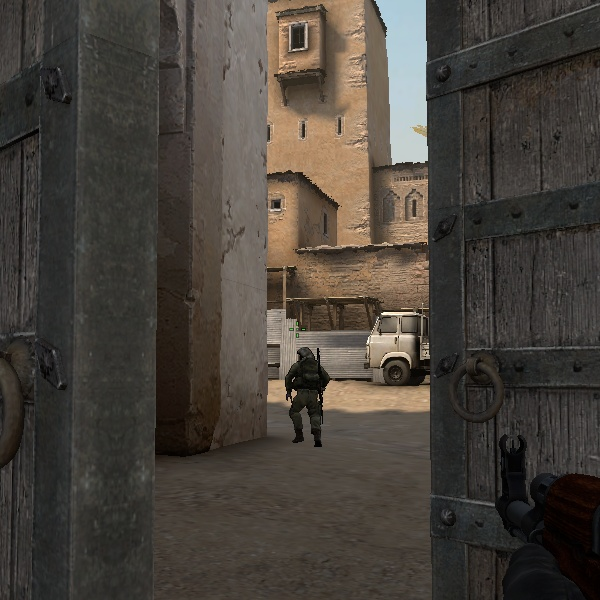ct_body: (285, 346, 331, 447)
ct_head: (296, 346, 314, 361)
